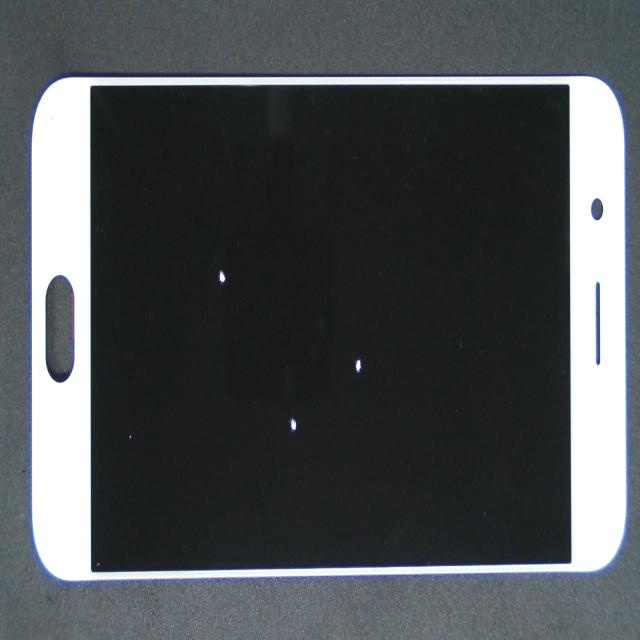stain: (133, 173, 420, 633), (194, 153, 528, 510), (104, 150, 313, 450)
